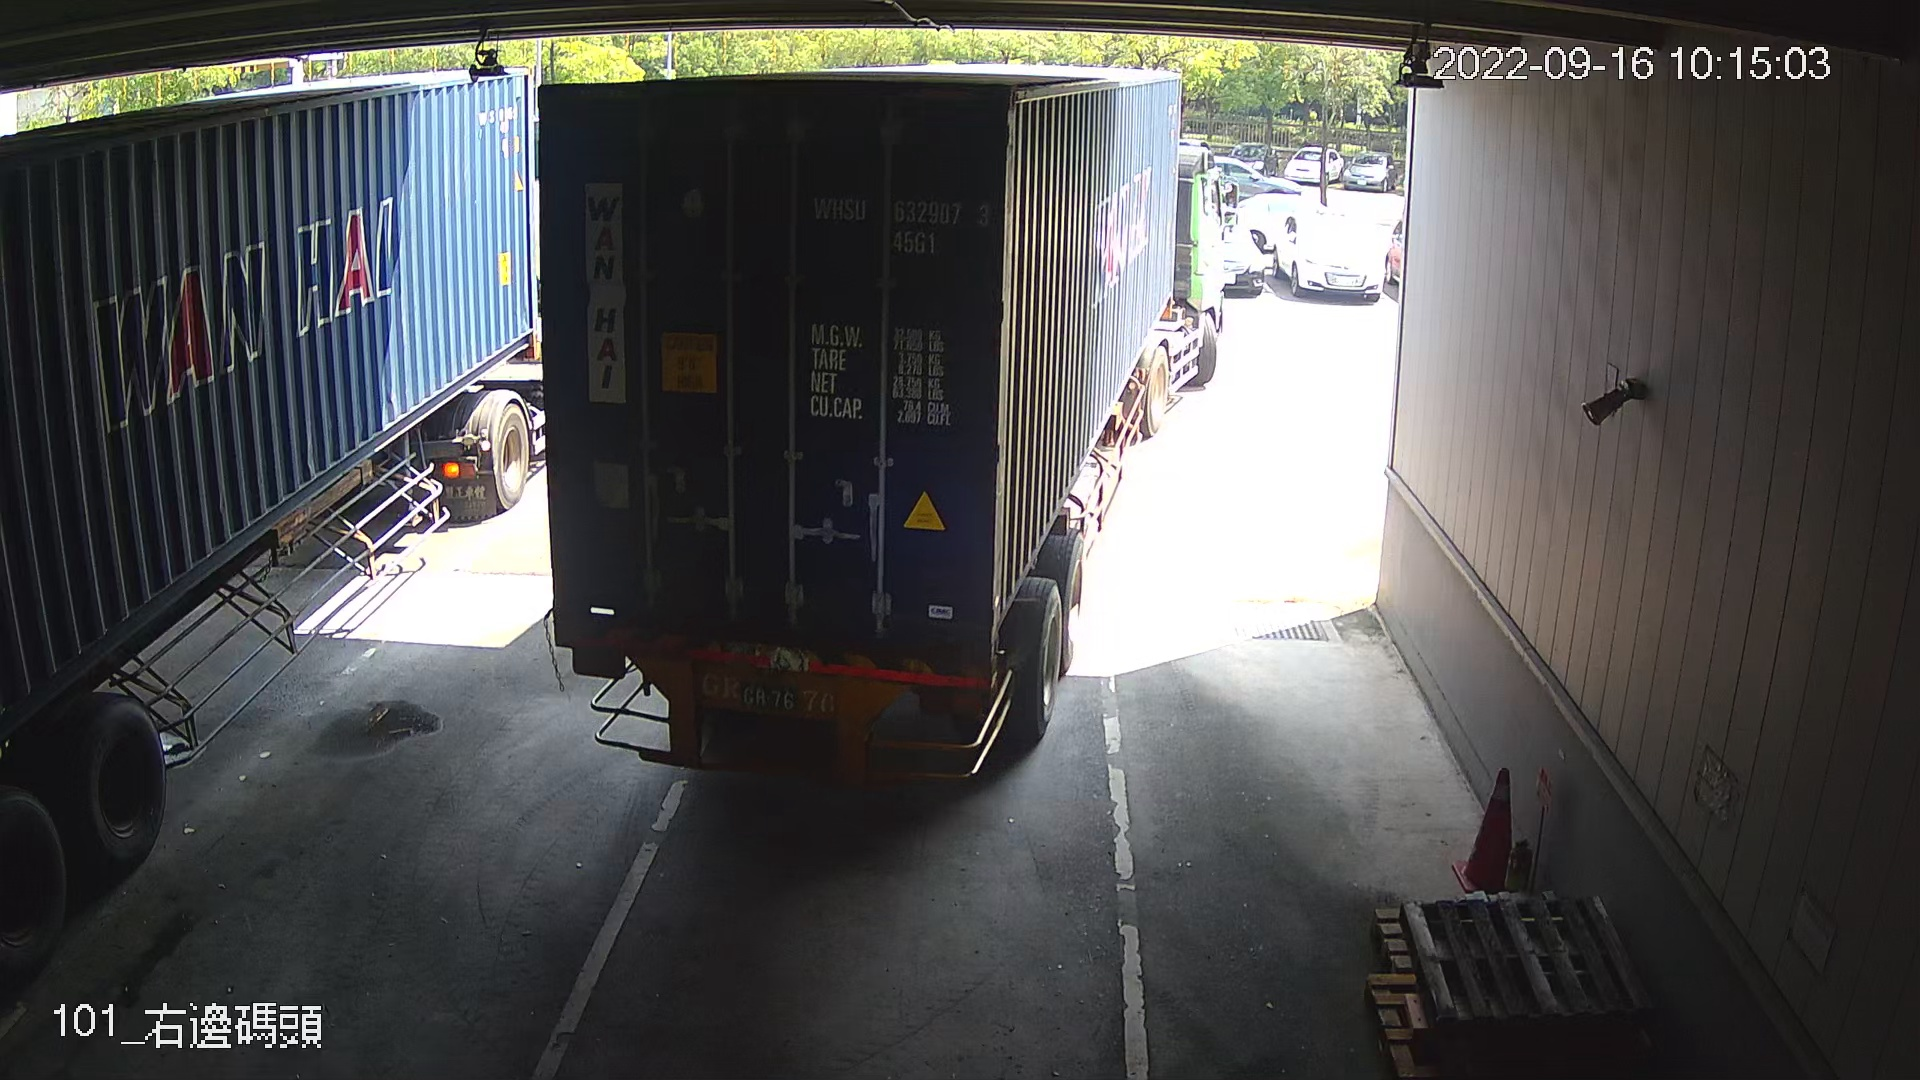container: (810, 179, 996, 261)
